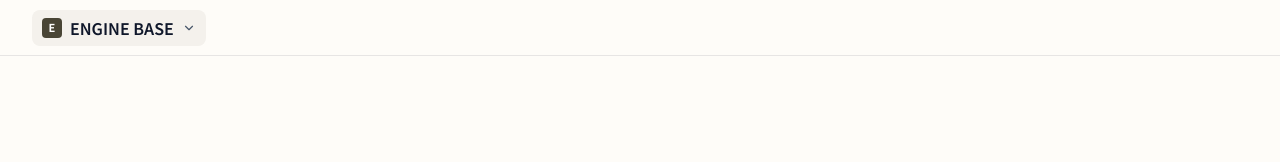
Test: TopBar › opens a real workspace listbox and fires onSelectWorkspace
The image size is (1280, 162).
Click the button with aria-label "ワークスペース: ENGINE BASE" at (119, 28), box [32,10,206,46]
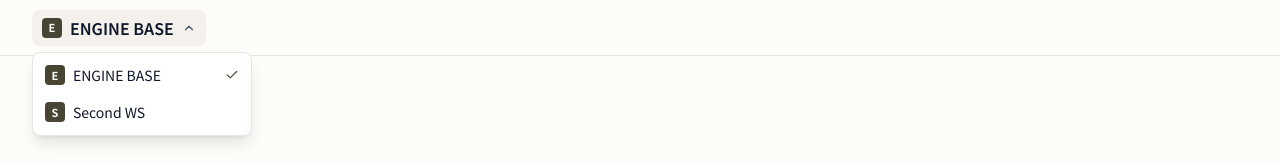
Expected: the button with aria-label "ワークスペース: ENGINE BASE" is expanded, [32,10,206,46]
Expected: the list named "ワークスペースを選択" is shown, [32,52,252,136]
Click the option "S Second WS" at (142, 112), box [33,94,251,130]
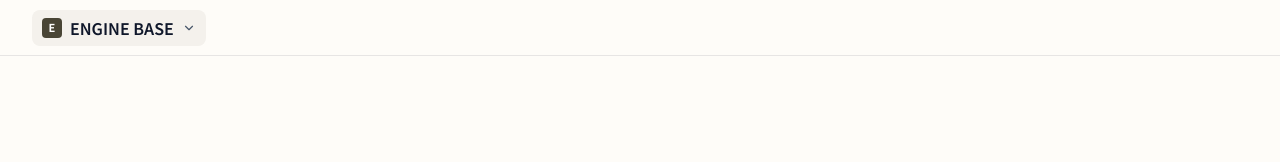
Expected: the list "ワークスペースを選択" is gone
